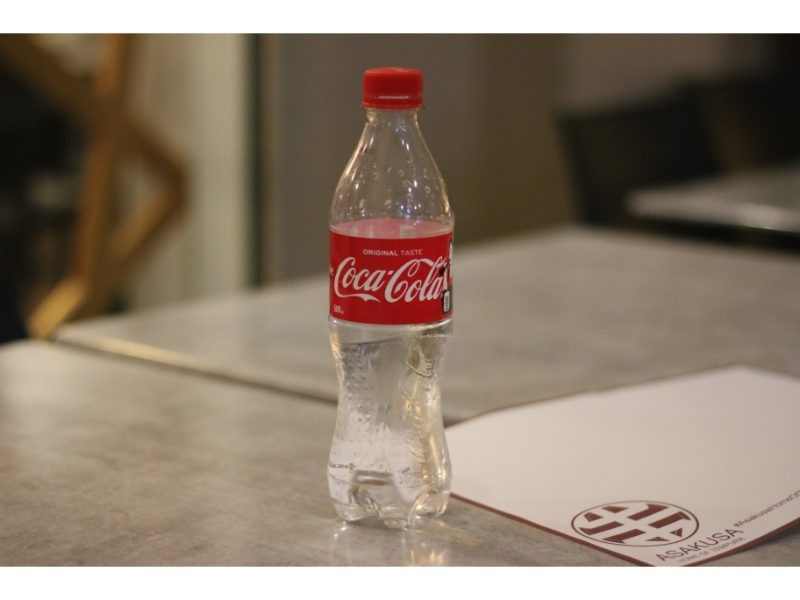PET #1: (324, 62, 455, 538)
